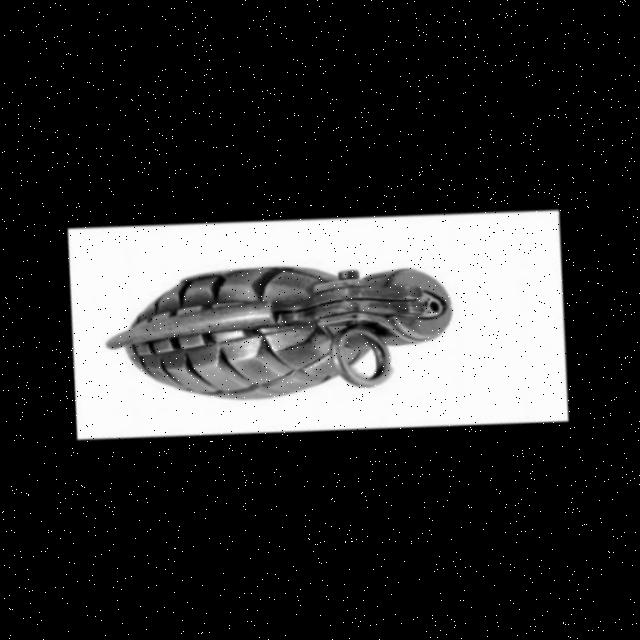grenade: (67, 194, 493, 471)
